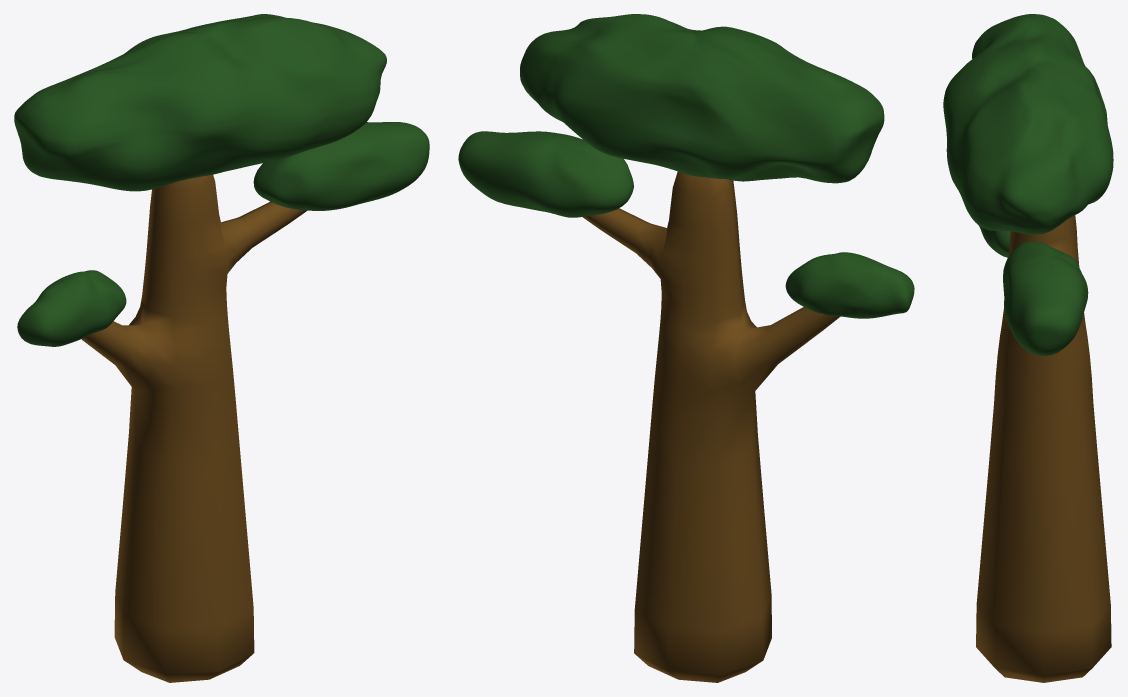
File: baobab2.gltf
The picture shows the model from 3 angles, left to right: view 1: azimuth 30°, elevation 25°; view 2: azimuth 150°, elevation 25°; view 3: azimuth 270°, elevation 25°; orthographic projection. The views are drawn at different scales.
Visible parts, largest first — view 1: Sphere.001; view 2: Sphere.001; view 3: Sphere.001.
Part boxes in pixels (bbox=[...]): Sphere.001: bbox=[14, 14, 429, 682]; Sphere.001: bbox=[458, 14, 914, 682]; Sphere.001: bbox=[943, 14, 1113, 682].
Bounding box in the file's own units: 4.55 × 6.48 × 1.63.
